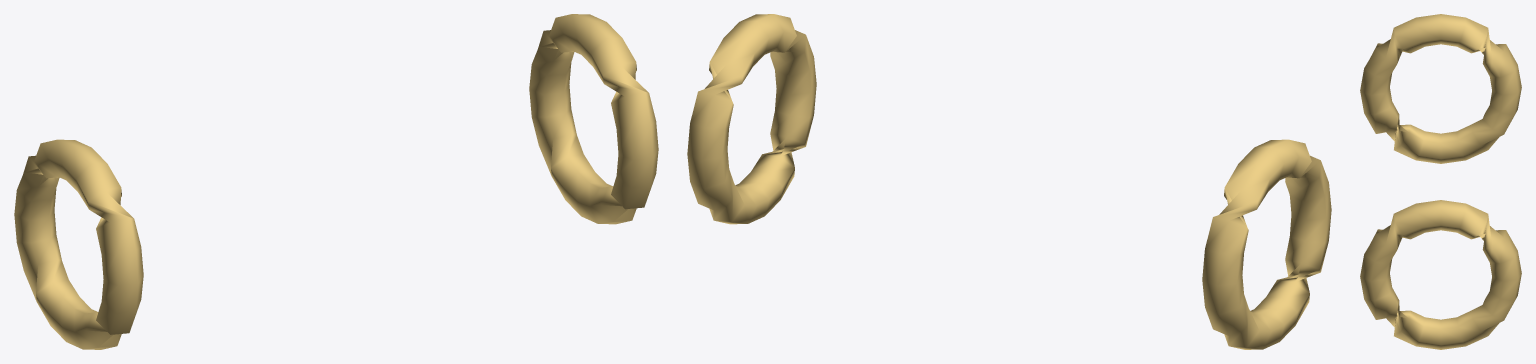
File: acc-earrings.glb
3 renders of one model, left to right at view 1: azimuth 30°, elevation 25°; view 2: azimuth 150°, elevation 25°; view 3: azimuth 270°, elevation 25°, orthographic. The views are drawn at different scales.
Parts seen in each view (by area): view 1: hoop1, hoop-1; view 2: hoop-1, hoop1; view 3: hoop-1, hoop1.
Part boxes in pixels (bbox=[...]): hoop1: bbox=[529, 14, 658, 224]; hoop-1: bbox=[14, 139, 143, 349]; hoop-1: bbox=[1202, 139, 1331, 349]; hoop1: bbox=[687, 14, 816, 224]; hoop-1: bbox=[1360, 14, 1521, 163]; hoop1: bbox=[1360, 200, 1521, 349].
Size of the model in its own units: 1.07 by 0.3676 by 0.3676.
